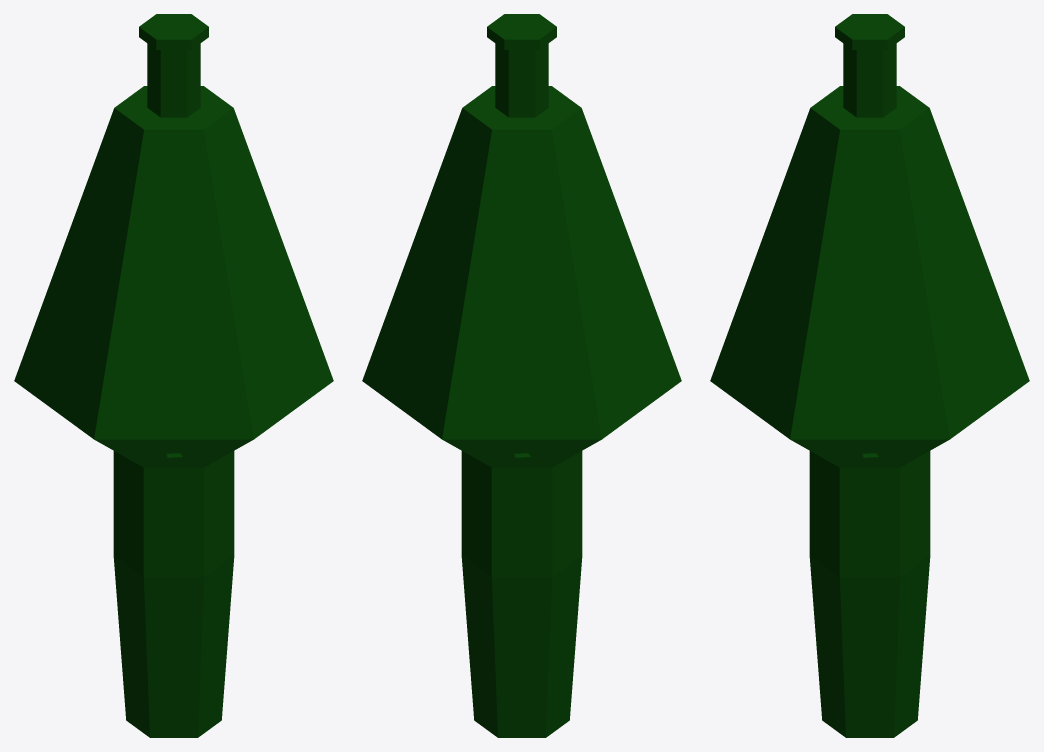
The model's file is RPG-Shot.fbx.
The picture shows the model from 3 angles, left to right: view 1: azimuth 30°, elevation 25°; view 2: azimuth 150°, elevation 25°; view 3: azimuth 270°, elevation 25°; orthographic projection.
Parts seen in each view (by area): view 1: Cylinder; view 2: Cylinder; view 3: Cylinder.
Part boxes in pixels (x1,y1,x2,y2): Cylinder: [14, 14, 333, 737]; Cylinder: [362, 14, 681, 737]; Cylinder: [710, 14, 1029, 737].
Bounding box in the file's own units: 70.23 × 194 × 81.09.
